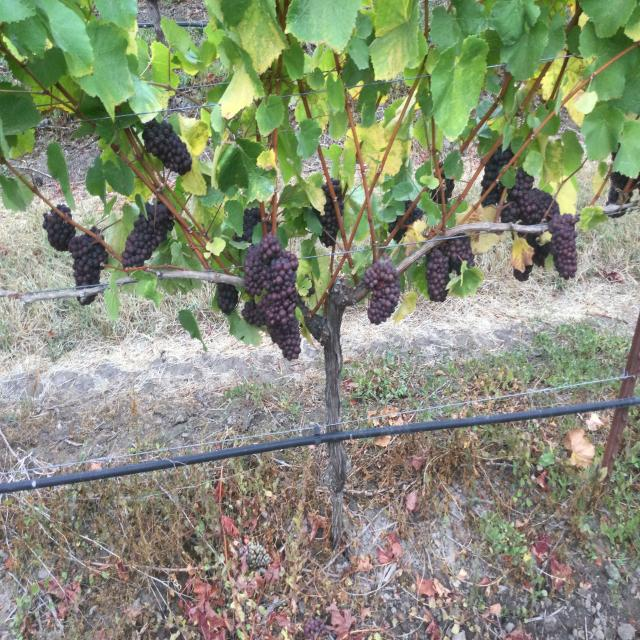grapes: (242, 233, 301, 360), (500, 167, 560, 225), (121, 203, 174, 268), (425, 237, 475, 302), (142, 118, 192, 175), (362, 253, 400, 325), (69, 233, 108, 287), (549, 213, 578, 278), (481, 145, 514, 193), (42, 210, 76, 252), (525, 233, 550, 267), (218, 283, 239, 315), (482, 183, 504, 207), (58, 205, 72, 220), (514, 270, 529, 280)
